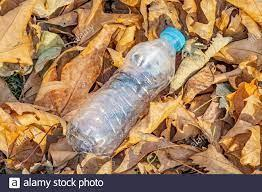bottle: (64, 23, 188, 160)
